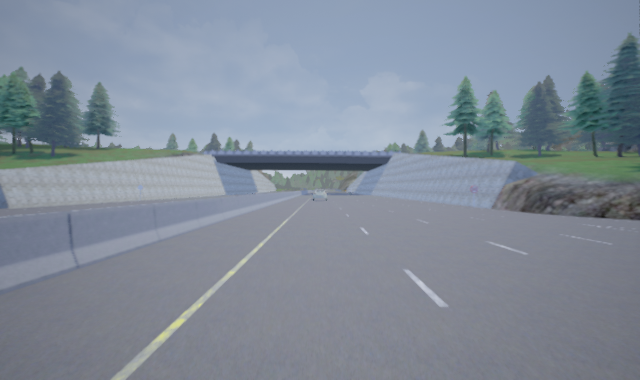vehicle: (310, 188, 328, 202)
